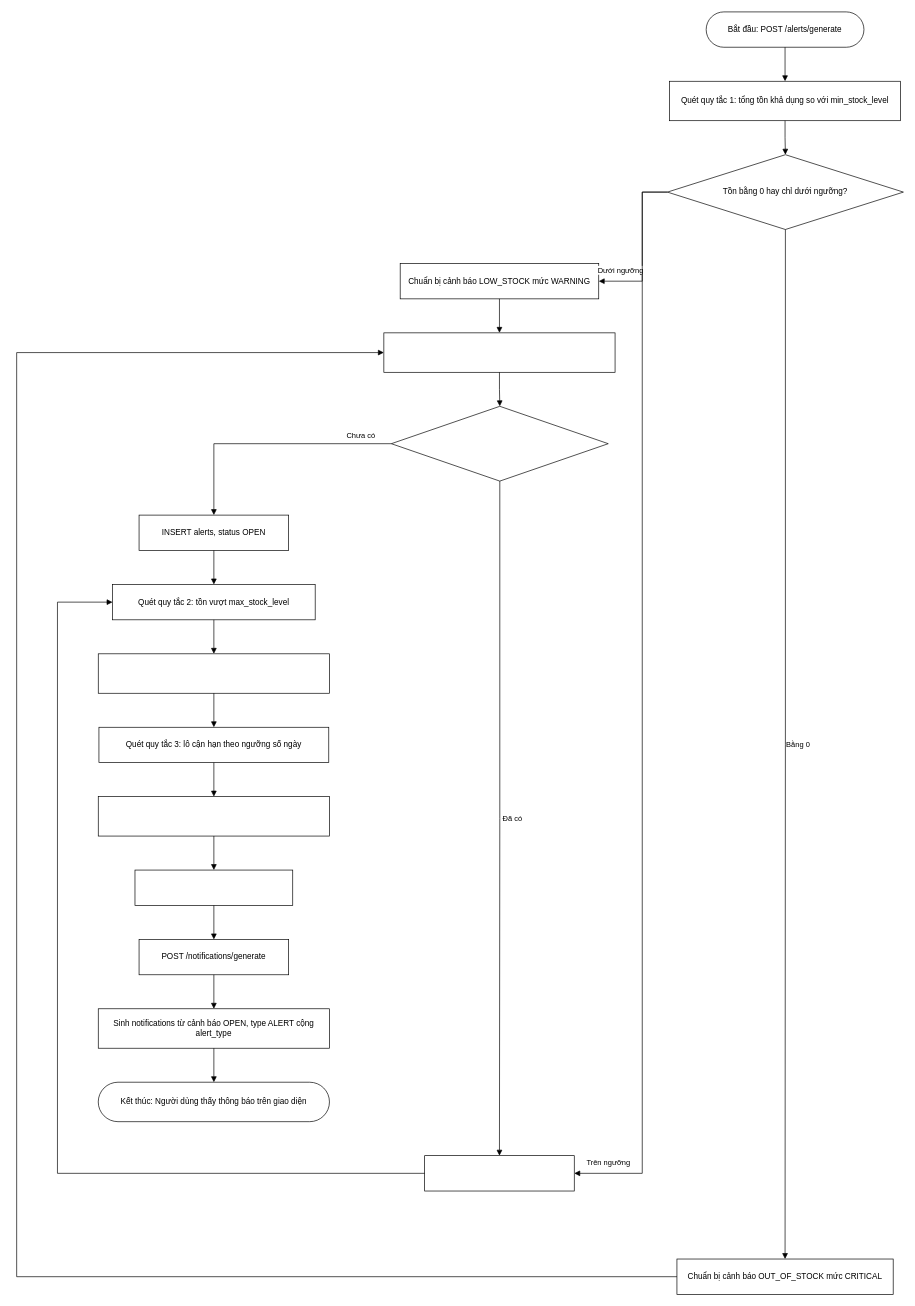
Some shapes in this 915 by 1306 pixel diagram are drawn without their labels. The centre of each missing label's shape, as x and y in pixels:
Bỏ qua SKU này: pixel 499 1173
Chuẩn bị cảnh báo NEAR_EXPIRY, lọc trùng như trên: pixel 213 816
Chuẩn bị cảnh báo OVER_MAX_STOCK mức INFO, lọc trùng như trên: pixel 213 673
Kết quả kiểm tra trùng: pixel 499 443
Quy tắc chống trùng: đã có cảnh báo OPEN cùng loại?: pixel 499 352
Trả createdCount cho người gọi: pixel 213 887
